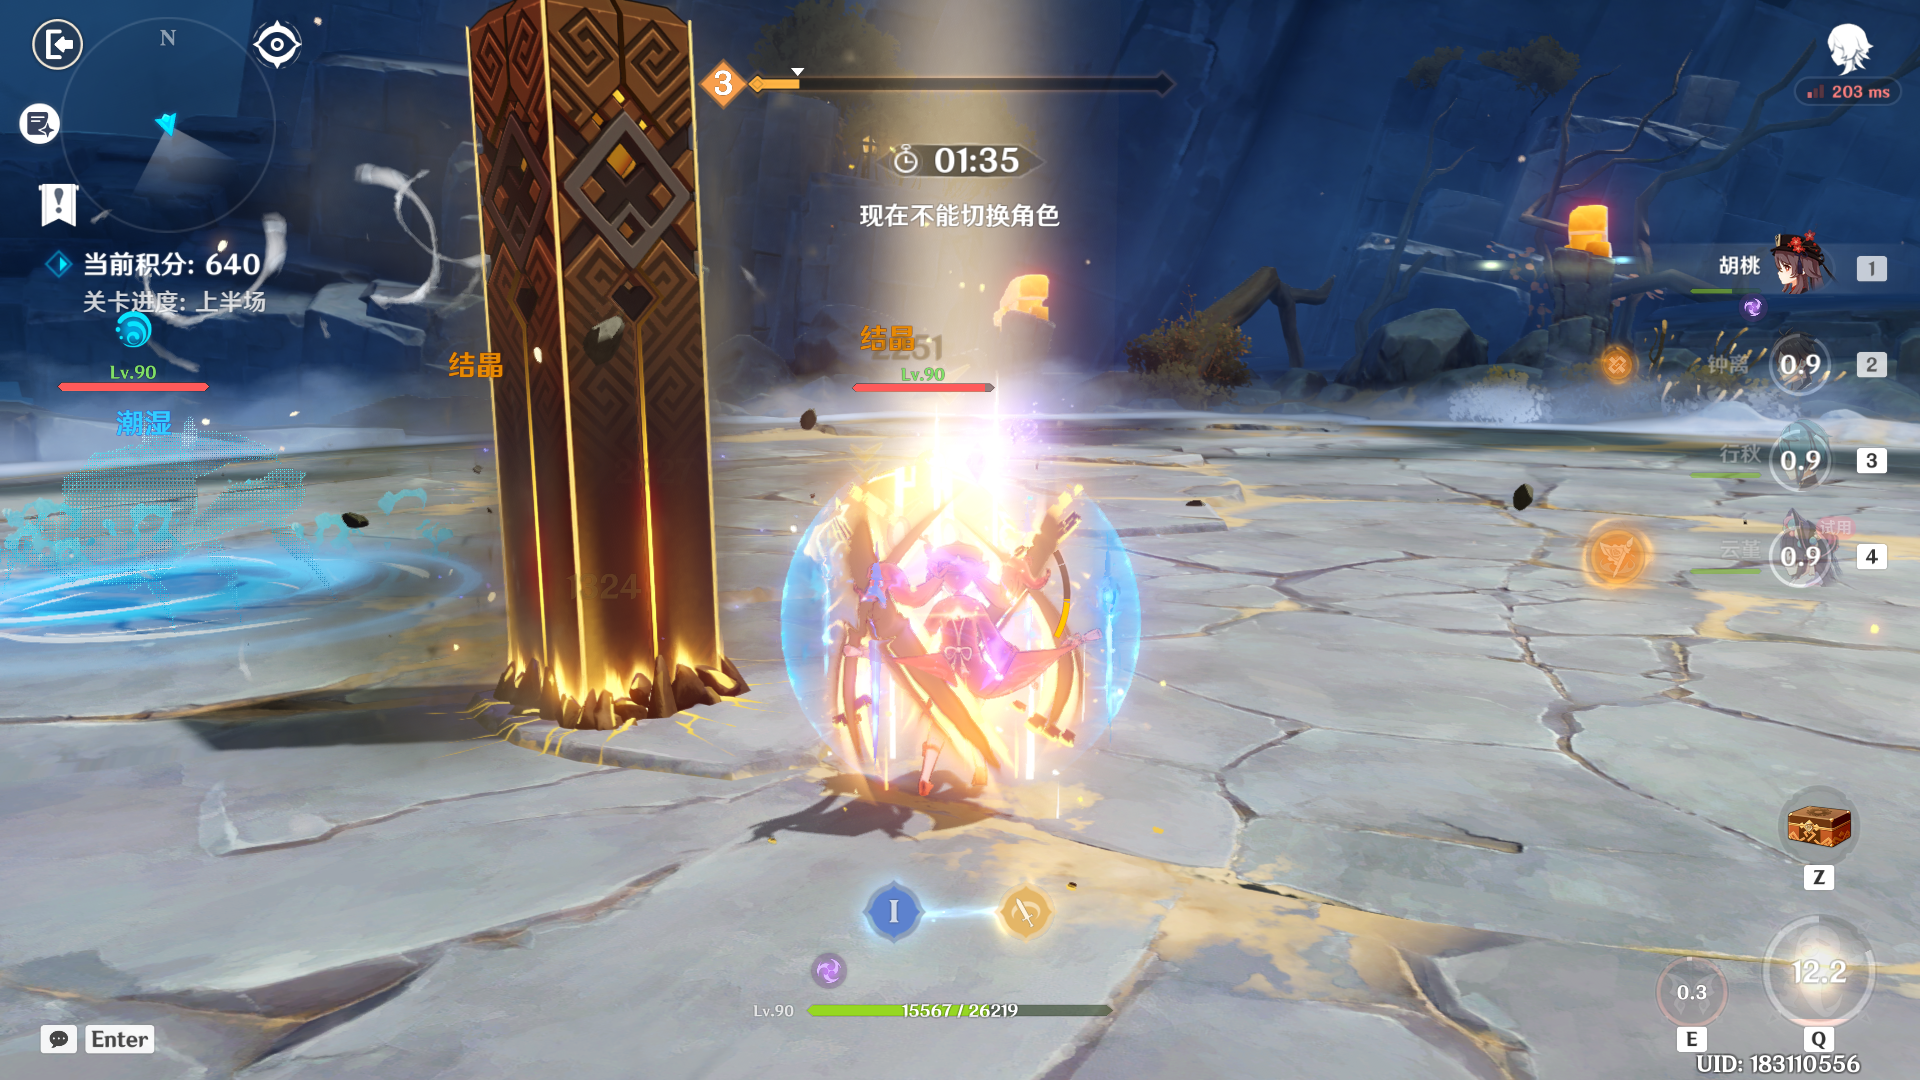character: (794, 455, 1137, 832)
